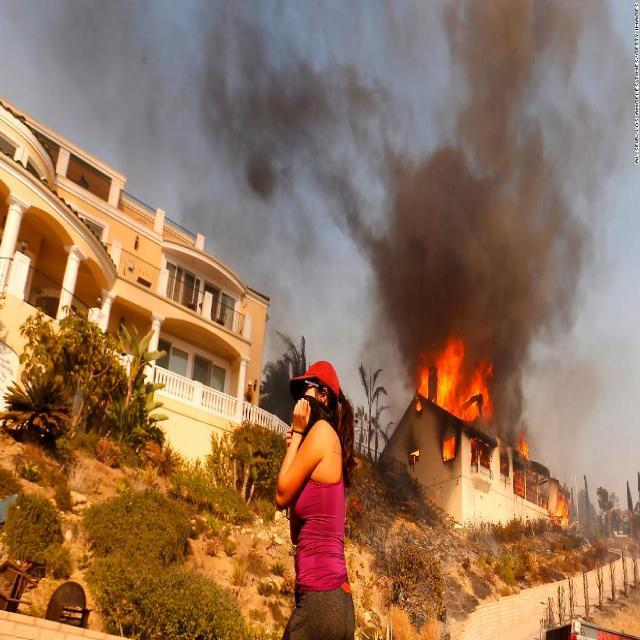Fire: (410, 309, 500, 437), (550, 478, 574, 536), (440, 436, 460, 464), (518, 427, 530, 465)
Smoke: (178, 0, 640, 481)
